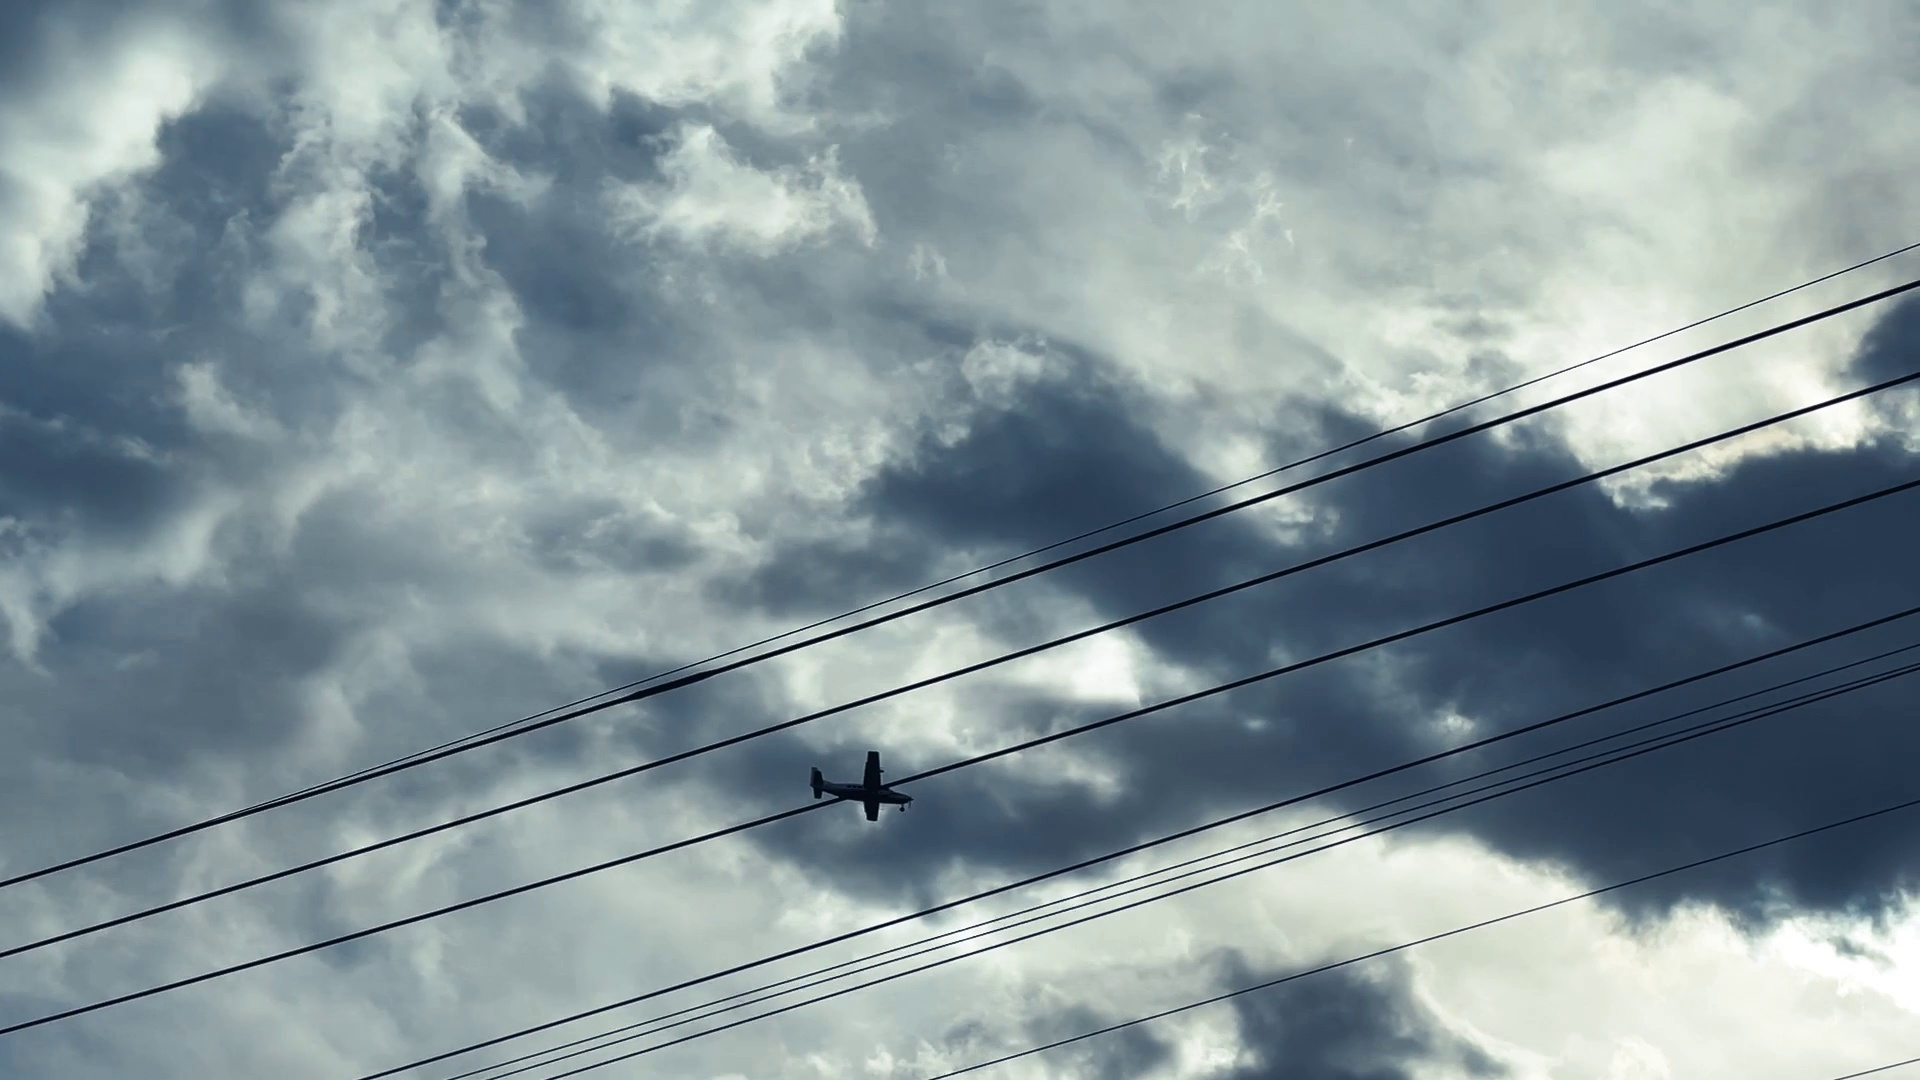plane: (810, 748, 910, 823)
